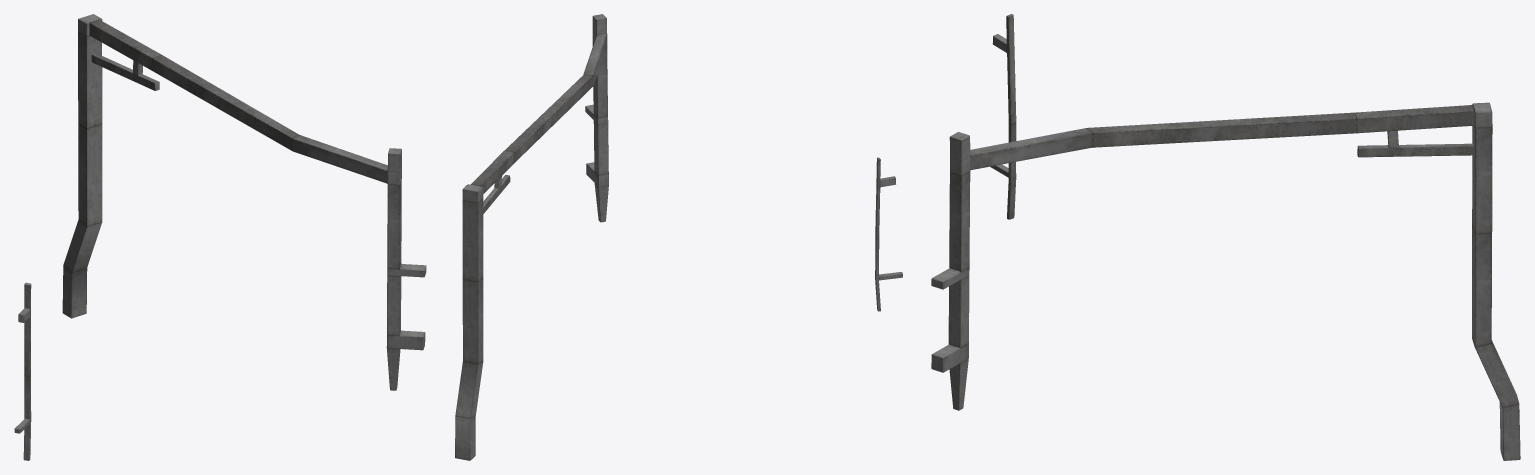
3 views of the same model, side by side, from view 1: azimuth 30°, elevation 25°; view 2: azimuth 150°, elevation 25°; view 3: azimuth 270°, elevation 25° (orthographic). The views are drawn at different scales.
Parts seen in each view (by area): view 1: Cube.044; view 2: Cube.044; view 3: Cube.044.
Boxes of the visible parts, x1=… form: Cube.044: x1=14, y1=14, x2=426, y2=460; Cube.044: x1=455, y1=14, x2=902, y2=460; Cube.044: x1=931, y1=14, x2=1520, y2=460.
Bounding box in the file's own units: 2323 × 1805 × 2630.
